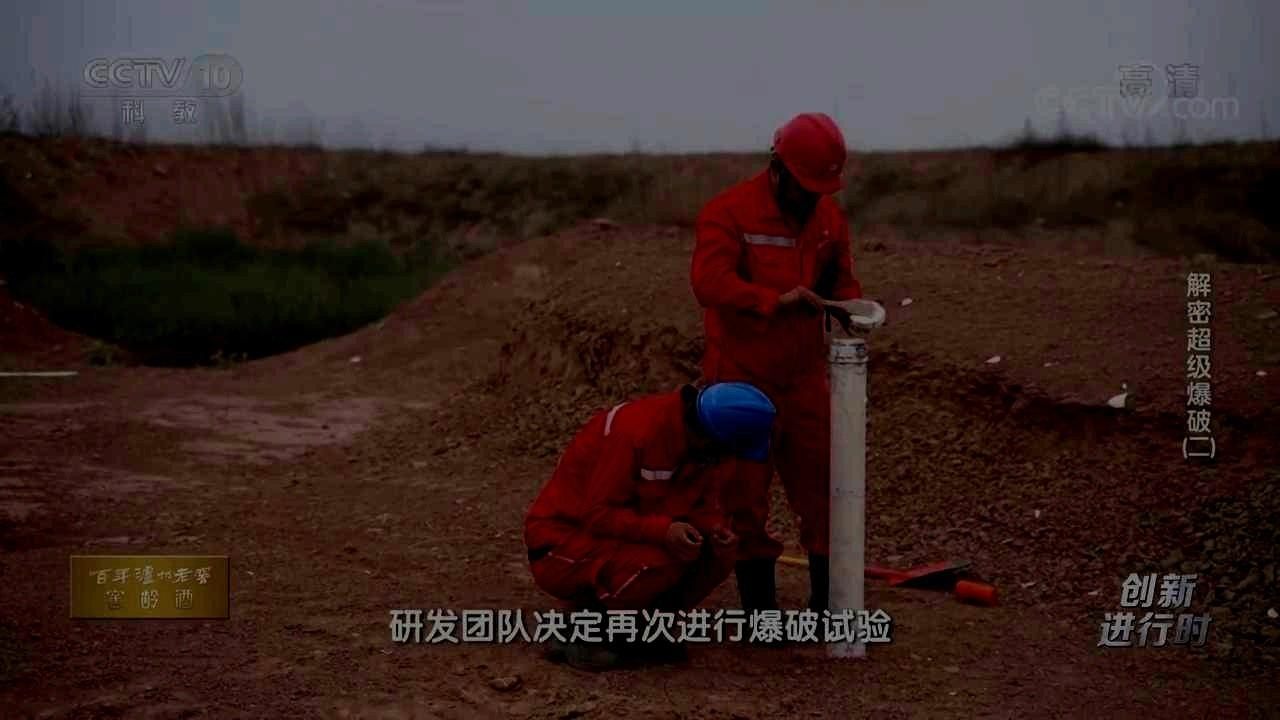helmet: (768, 112, 847, 209), (686, 380, 777, 463)
